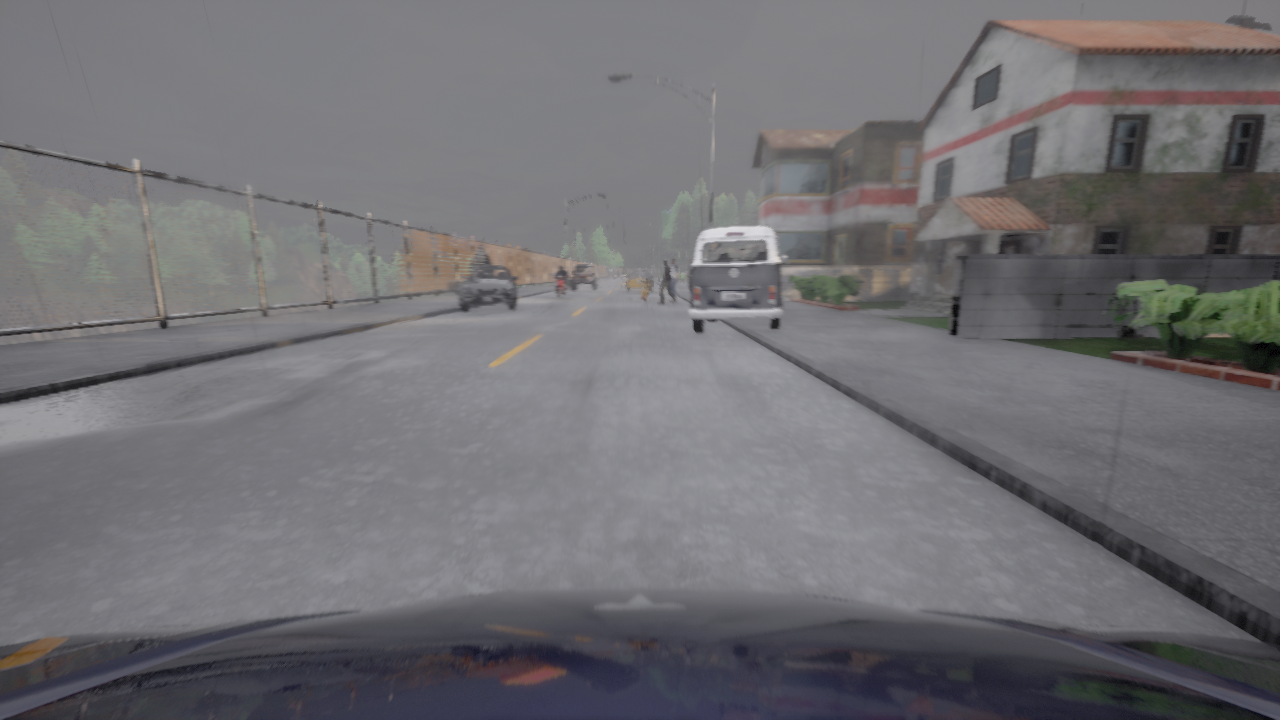cyclist: (0, 588, 1279, 719), (688, 225, 786, 333), (459, 265, 517, 310), (570, 264, 598, 290), (626, 268, 653, 291), (552, 273, 568, 297), (629, 269, 650, 274)
pedestrian: (658, 259, 676, 303), (669, 258, 677, 301), (686, 256, 692, 299), (642, 278, 649, 304)
